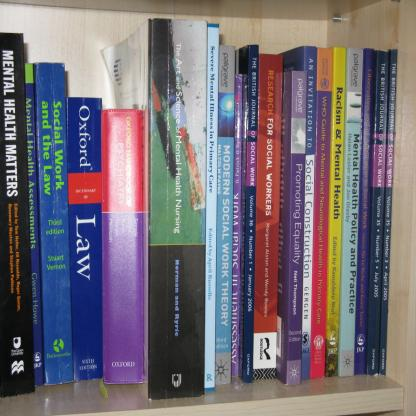book: (40, 12, 416, 404)
